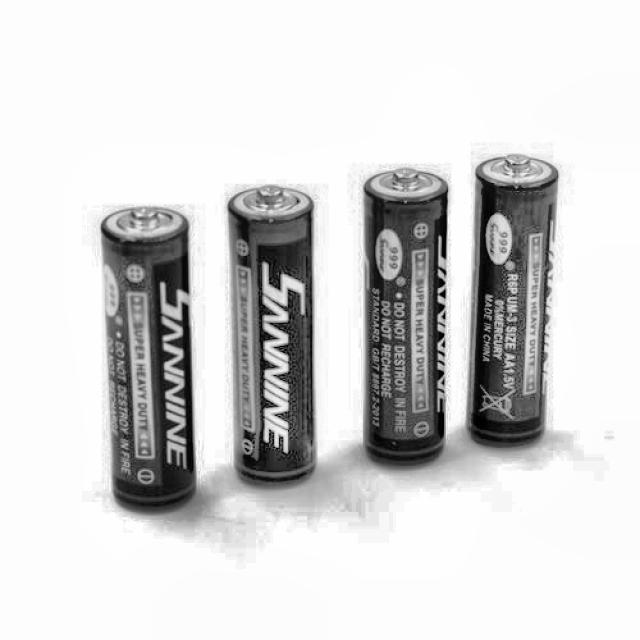drycell: (95, 200, 203, 514), (229, 183, 323, 495)
